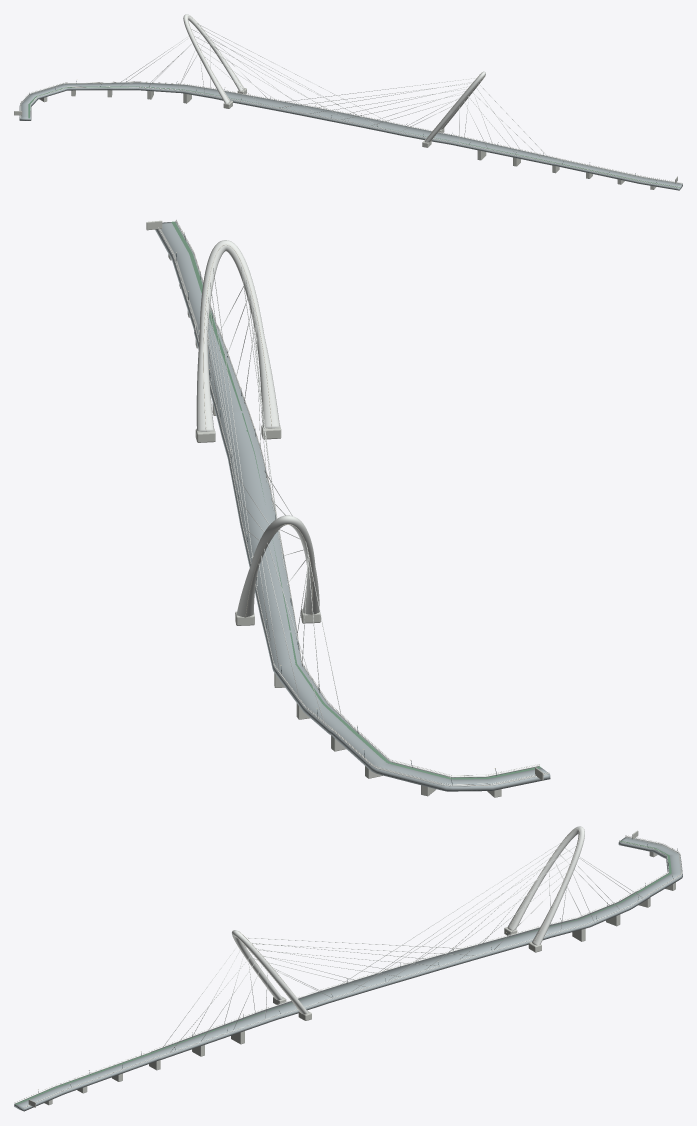
Rendered from nanjing-eye-lod2.glb.
The picture shows the model from 3 angles, top to bottom: view 1: azimuth 30°, elevation 25°; view 2: azimuth 150°, elevation 25°; view 3: azimuth 270°, elevation 25°; orthographic projection. The views are drawn at different scales.
Parts seen in each view (by area): view 1: Nanjing Eye Steel Box Girder, Nanjing Eye Stay Cables, Nanjing Eye White Painted Steel, Nanjing Eye White Railings, Nanjing Eye Pale Concrete, Nanjing Eye Green Walking Lane, Nanjing Eye Tower Light; view 2: Nanjing Eye Steel Box Girder, Nanjing Eye White Painted Steel, Nanjing Eye Stay Cables, Nanjing Eye White Railings, Nanjing Eye Pale Concrete, Nanjing Eye Green Walking Lane; view 3: Nanjing Eye Steel Box Girder, Nanjing Eye White Painted Steel, Nanjing Eye Stay Cables, Nanjing Eye White Railings, Nanjing Eye Pale Concrete, Nanjing Eye Green Walking Lane, Nanjing Eye Tower Light.
Boxes of the visible parts, <box> form: Nanjing Eye Steel Box Girder: <box>19,82,682,190</box>; Nanjing Eye Stay Cables: <box>120,23,547,159</box>; Nanjing Eye White Painted Steel: <box>20,14,682,187</box>; Nanjing Eye White Railings: <box>20,81,681,187</box>; Nanjing Eye Pale Concrete: <box>14,88,677,189</box>; Nanjing Eye Green Walking Lane: <box>28,86,679,187</box>; Nanjing Eye Tower Light: <box>187,16,485,141</box>; Nanjing Eye Steel Box Girder: <box>155,221,550,791</box>; Nanjing Eye White Painted Steel: <box>158,221,549,786</box>; Nanjing Eye Stay Cables: <box>198,266,341,721</box>; Nanjing Eye White Railings: <box>158,219,549,785</box>; Nanjing Eye Pale Concrete: <box>146,220,543,797</box>; Nanjing Eye Green Walking Lane: <box>171,221,541,779</box>; Nanjing Eye Steel Box Girder: <box>14,837,682,1111</box>; Nanjing Eye White Painted Steel: <box>14,826,682,1107</box>; Nanjing Eye Stay Cables: <box>163,839,642,1051</box>; Nanjing Eye White Railings: <box>14,835,682,1107</box>; Nanjing Eye Pale Concrete: <box>28,830,675,1107</box>; Nanjing Eye Green Walking Lane: <box>15,841,671,1104</box>; Nanjing Eye Tower Light: <box>233,828,579,1013</box>.
Size of the model in its own units: 549 by 104 by 569.
